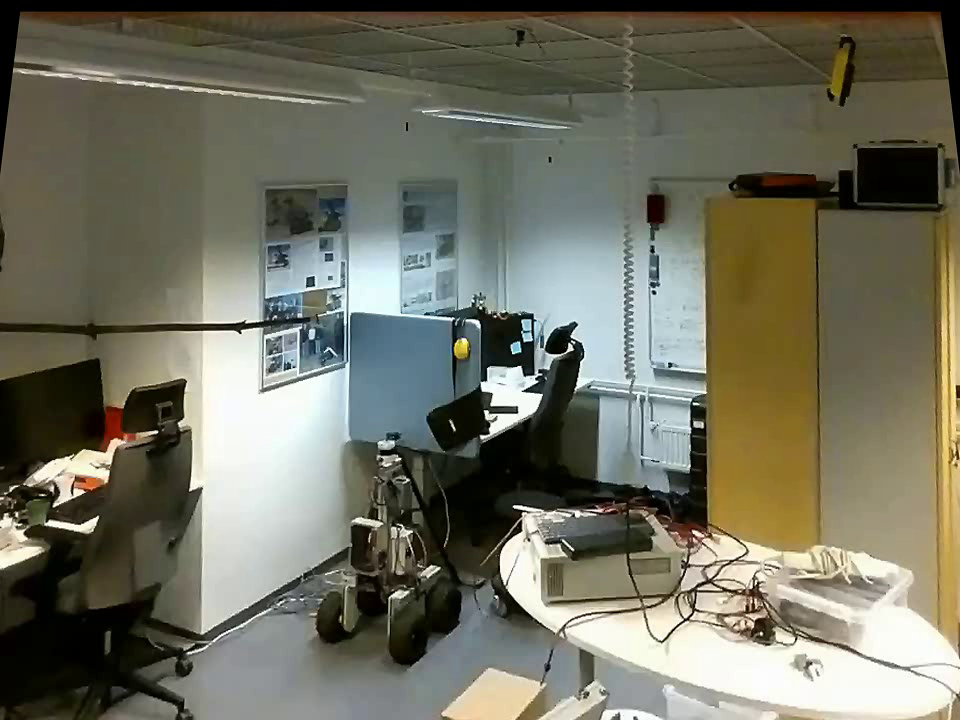aluminum_frame: (644, 178, 655, 370), (643, 356, 708, 382), (646, 171, 733, 188)
branch: (1, 301, 306, 351)
